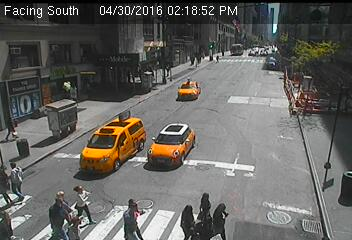neg: (291, 81, 329, 132), (260, 87, 296, 134), (228, 93, 256, 129), (190, 99, 214, 131), (84, 112, 104, 139), (156, 102, 174, 127), (109, 146, 126, 170)
pos: (40, 191, 74, 237), (65, 183, 96, 225), (117, 195, 148, 237), (208, 200, 235, 236), (175, 203, 201, 237), (193, 191, 217, 223)
